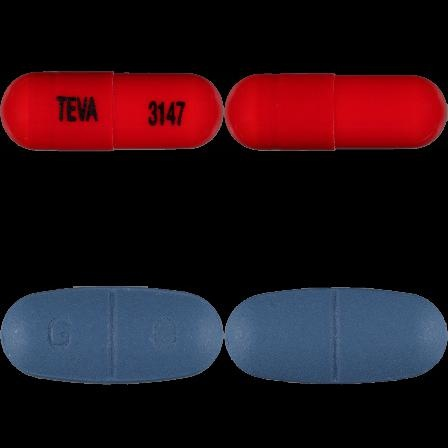42549-565: (0, 0, 224, 224)
